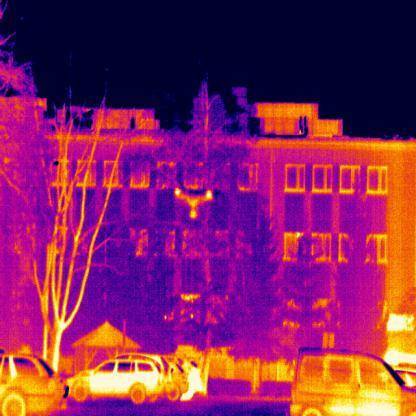drone: (173, 187, 212, 217)
vehicle: (65, 357, 164, 403)
